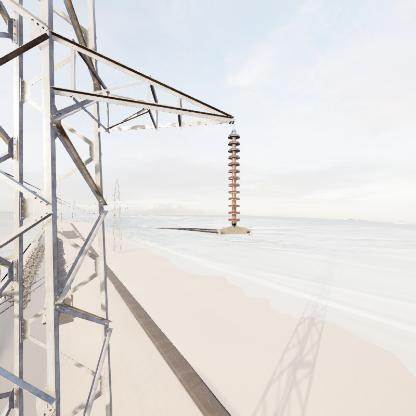insulator: (224, 129, 243, 225)
